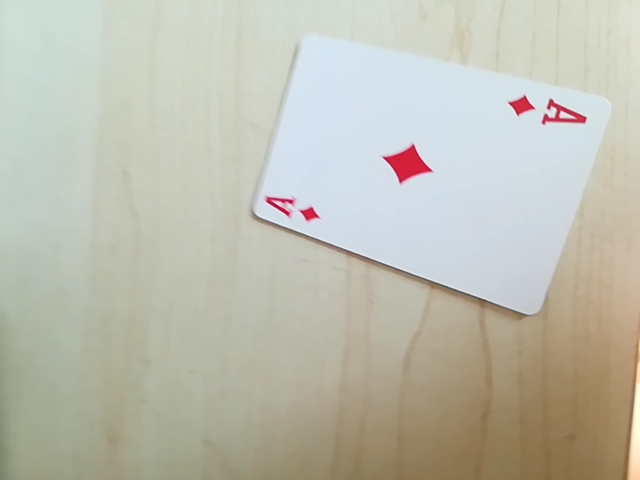fk a: (504, 92, 590, 134), (254, 188, 326, 227)
